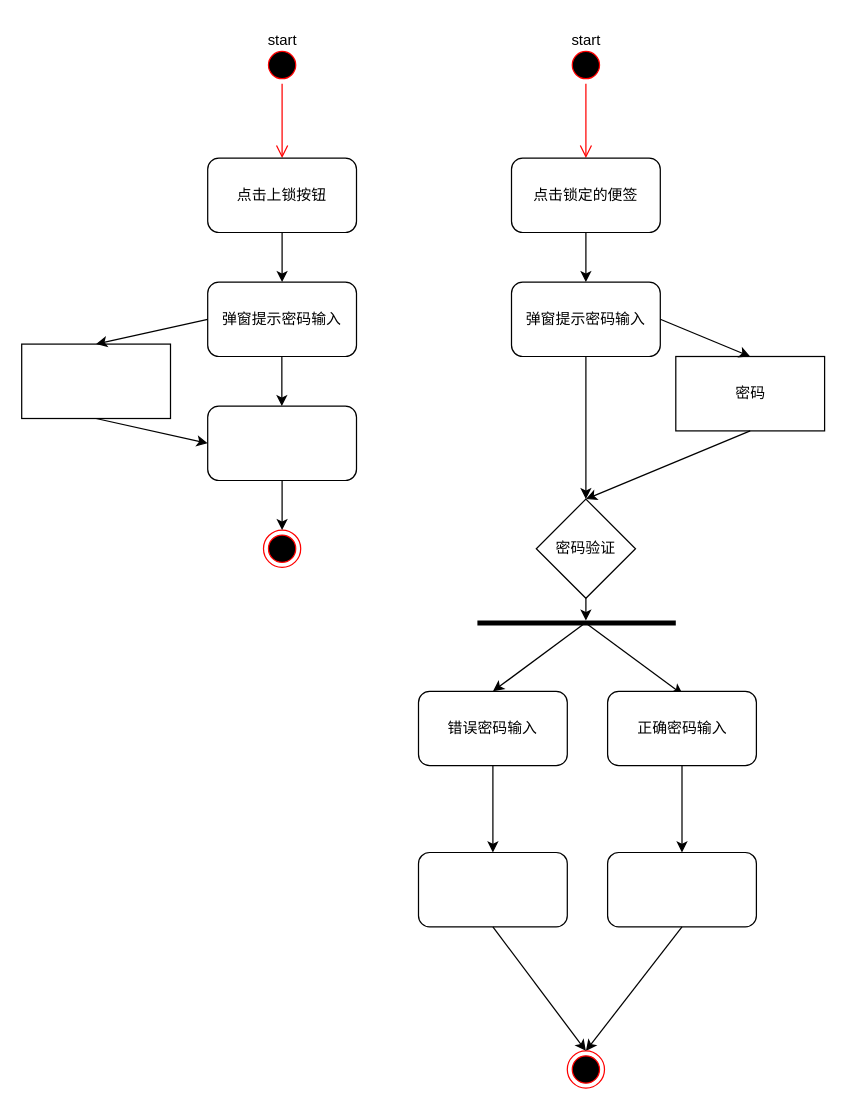
The diagram is 847 pixels wide and 1110 high, and some of its shapes have lost their labels. The shapes that lost their labels are listed below. From the top down, each one's centre as x and y in pixels, then its label:
point (95, 380): 设置的密码
point (281, 442): 便签锁定
point (492, 889): 弹窗提示
point (681, 889): 便签解锁
